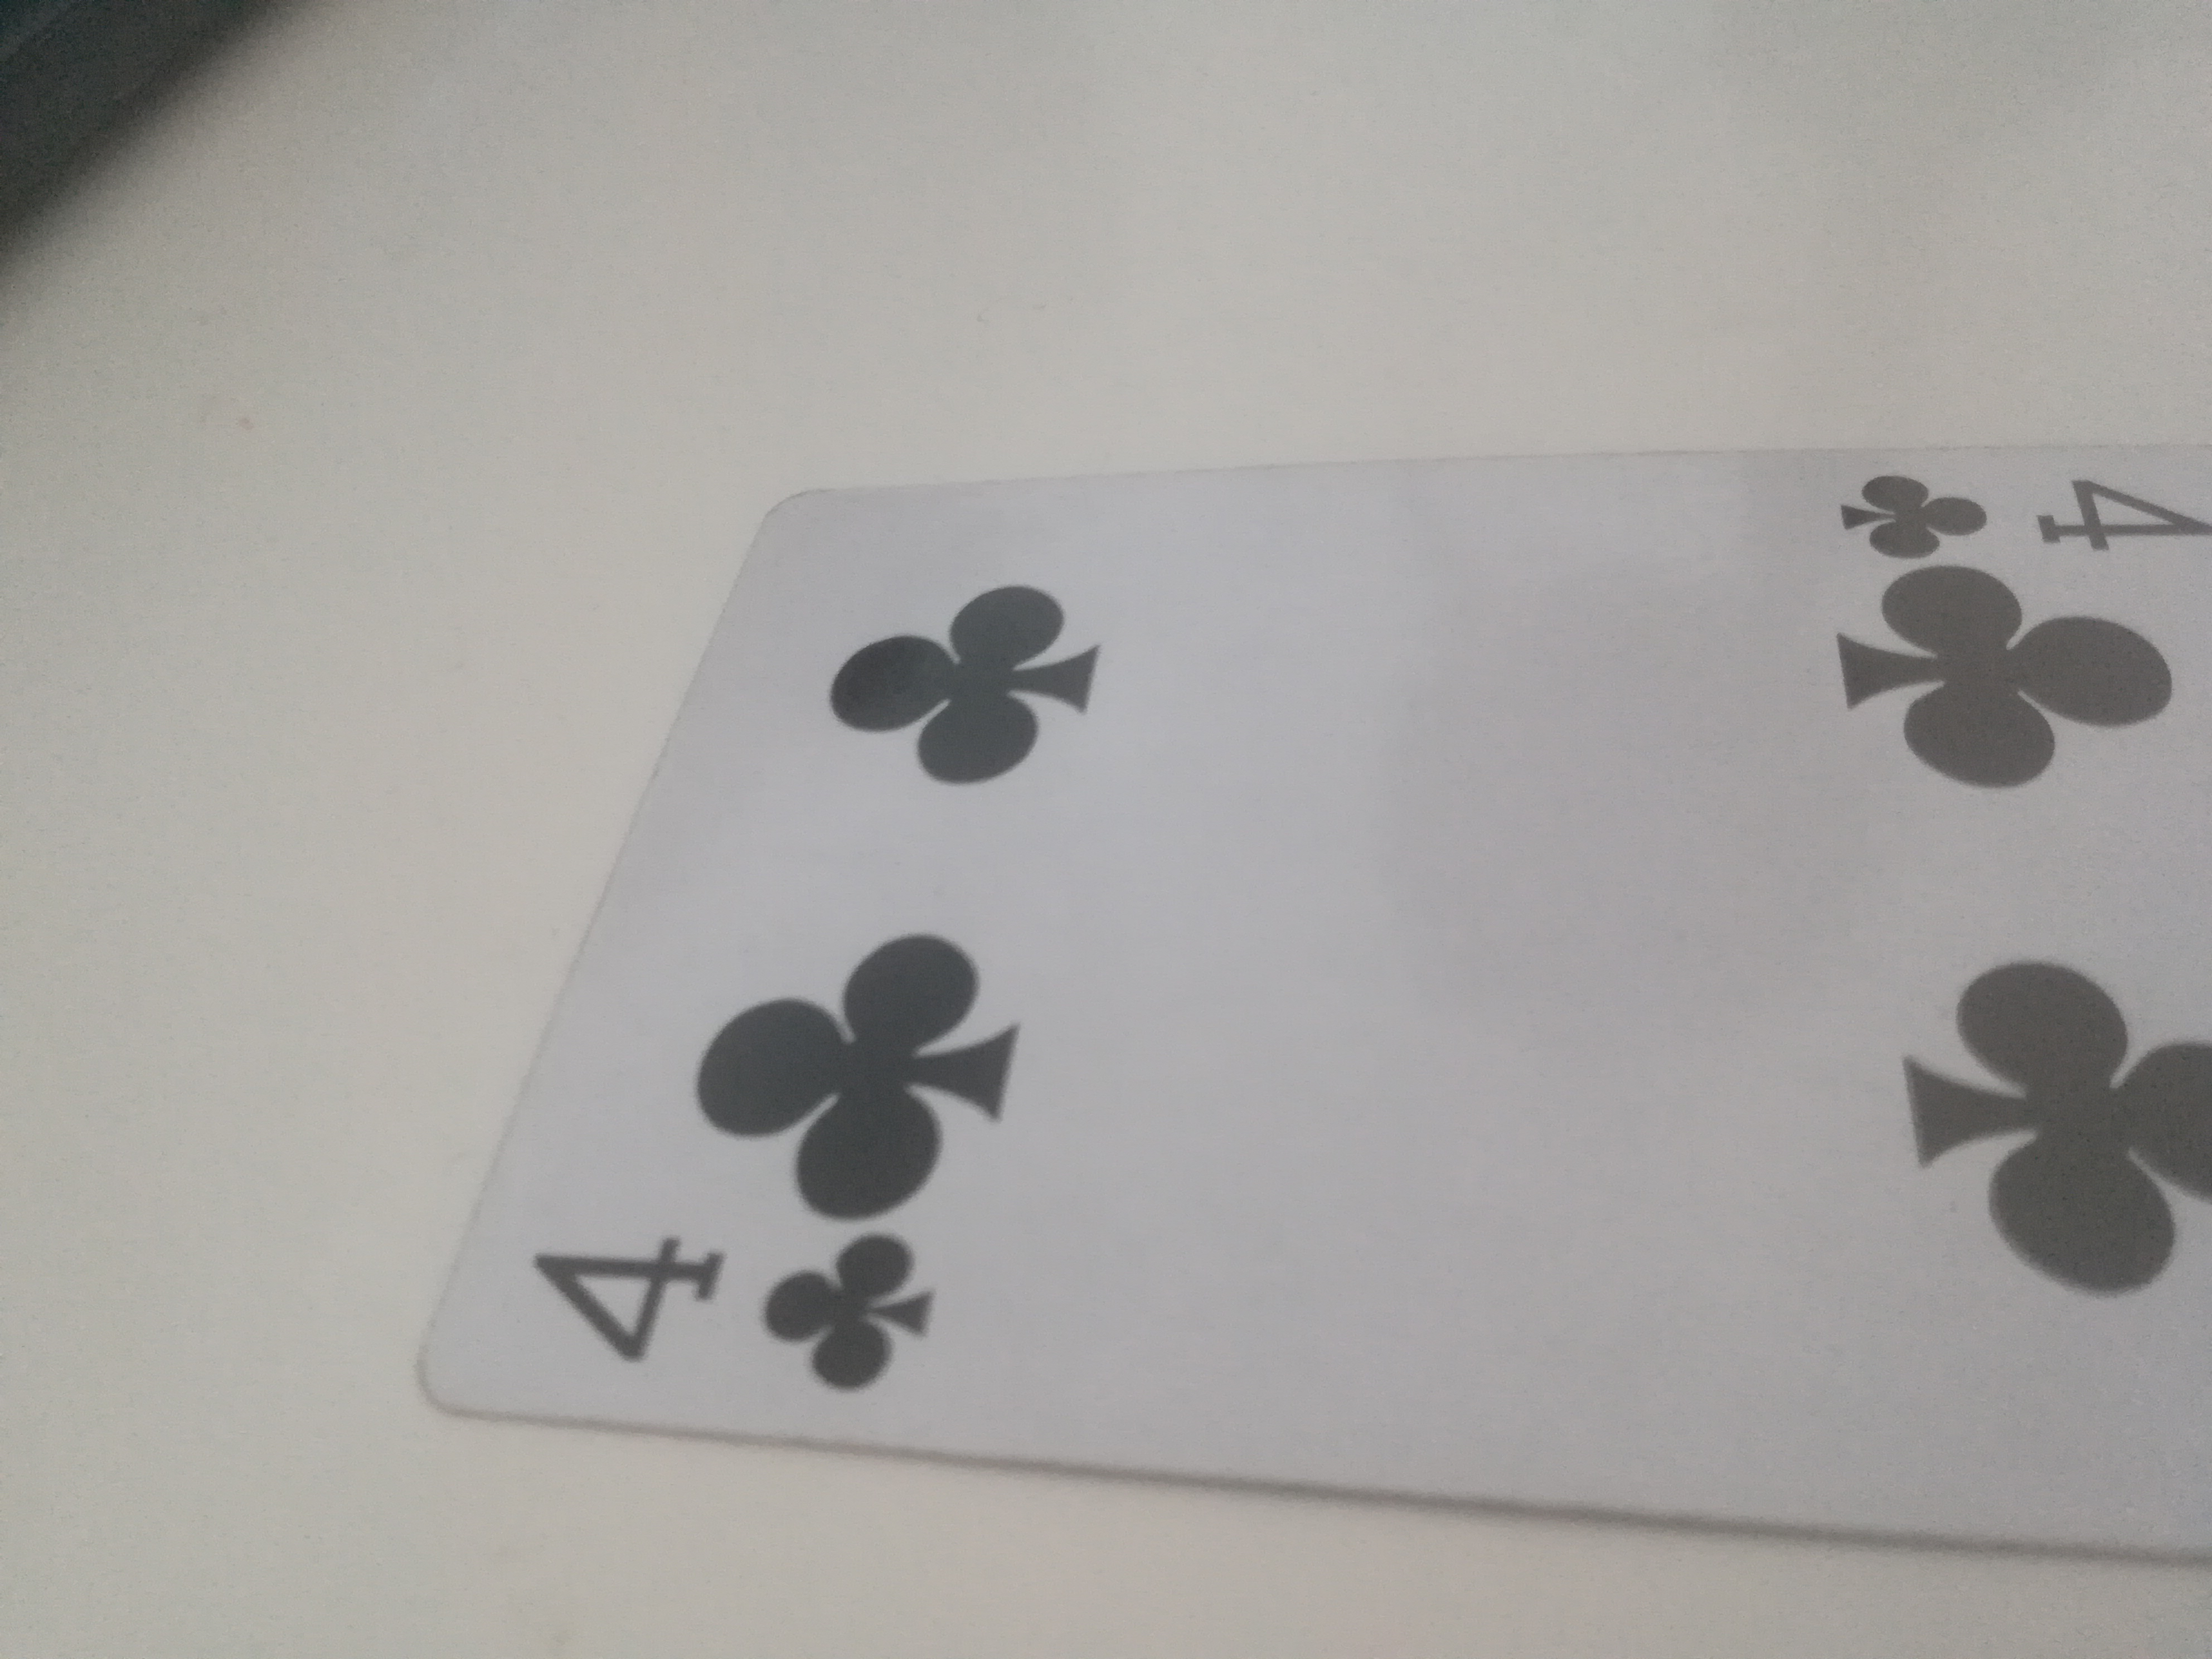4C: (388, 479, 2212, 1586)
